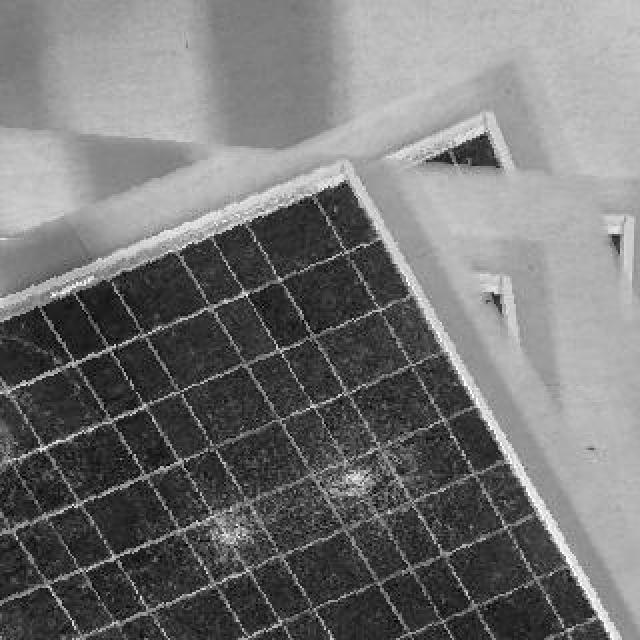Physical-damage: (294, 438, 442, 528), (175, 489, 306, 585)
